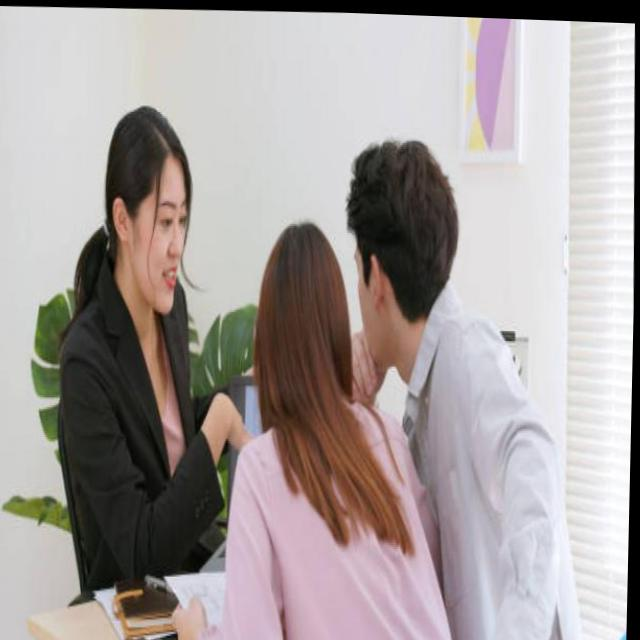no helmet: (346, 133, 468, 330), (251, 215, 358, 438)
